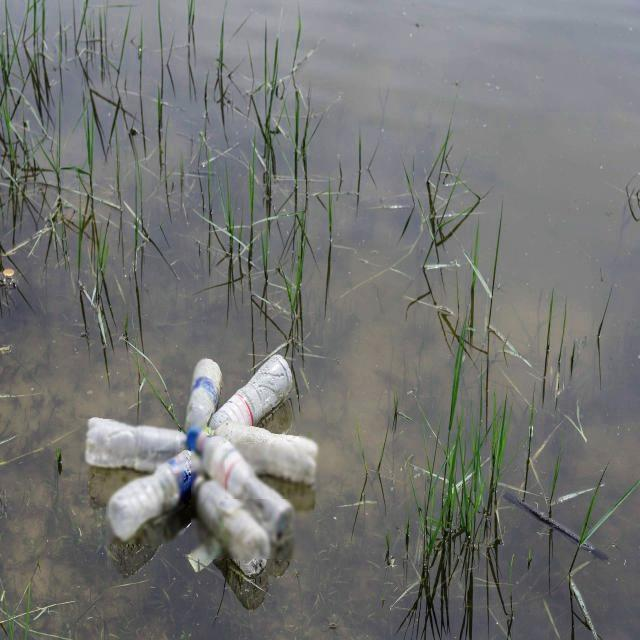Plastic: (194, 434, 295, 546), (193, 418, 320, 492), (104, 456, 195, 548), (190, 474, 270, 574), (210, 354, 299, 432), (81, 409, 188, 471), (188, 348, 225, 439)
